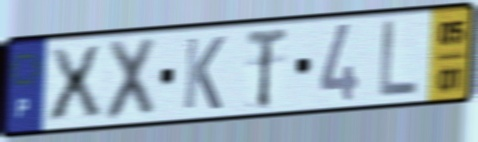4: (317, 21, 361, 106)
K: (181, 34, 228, 112)
L: (376, 17, 420, 99)
T: (244, 25, 290, 113)
X: (102, 33, 160, 124), (46, 43, 105, 125)
